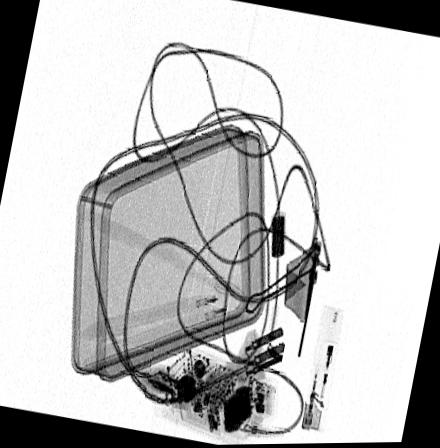Lighter: (300, 307, 342, 431)
